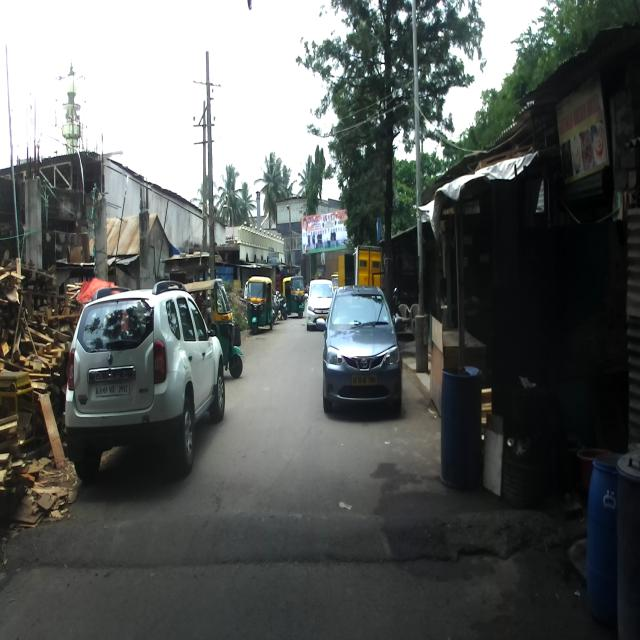auto ahead at: (193, 275, 246, 385)
barrier ahead at: (436, 356, 486, 493)
car ahead at: (69, 289, 227, 480), (322, 277, 402, 409)
